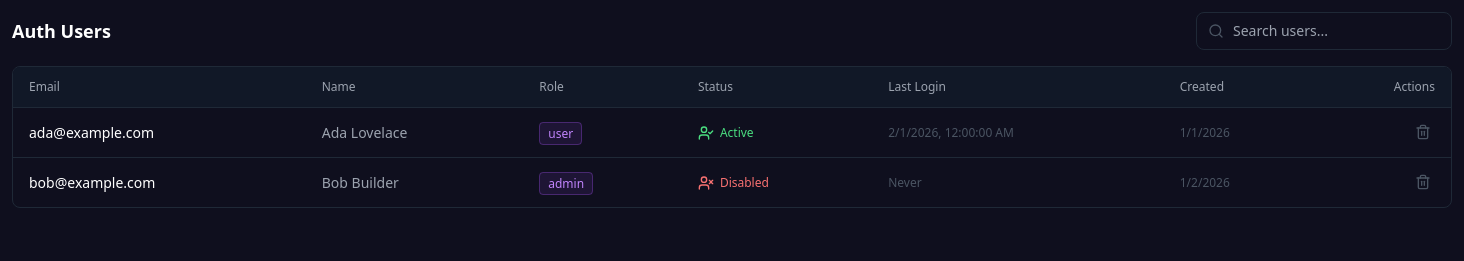
Test: AuthUsersPage › a refused enable/disable shows the server reason, not the status code
Expected: the row with test id "user-row-1" is shown, [13, 108, 1451, 158]
Step 1. Click the button "Active" → (726, 132), box [698, 124, 754, 140]
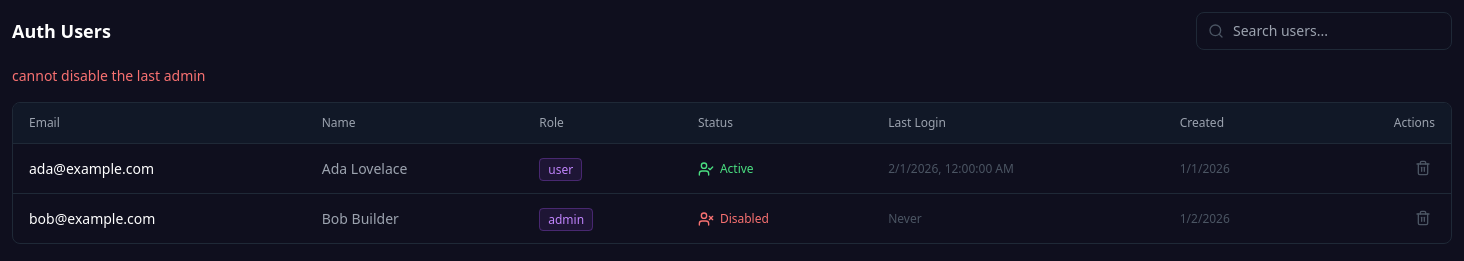
Expected: the message with test id "auth-users-error" reads "cannot disable the last admin", [12, 66, 206, 85]
